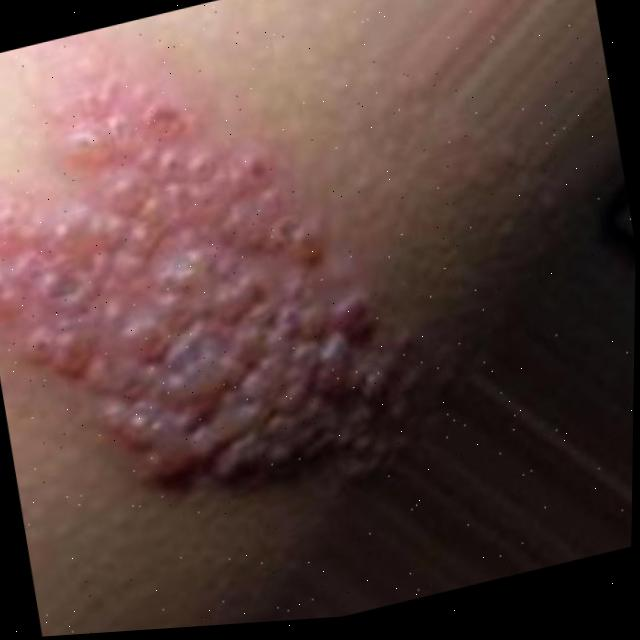Shingles: (0, 4, 410, 558)
